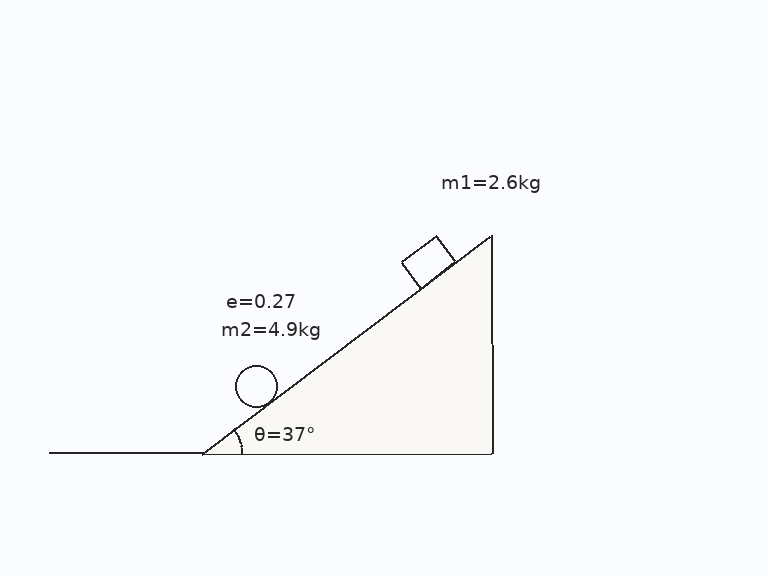ball: (233, 363, 279, 409)
block: (399, 234, 458, 290)
ramp: (200, 233, 493, 455)
